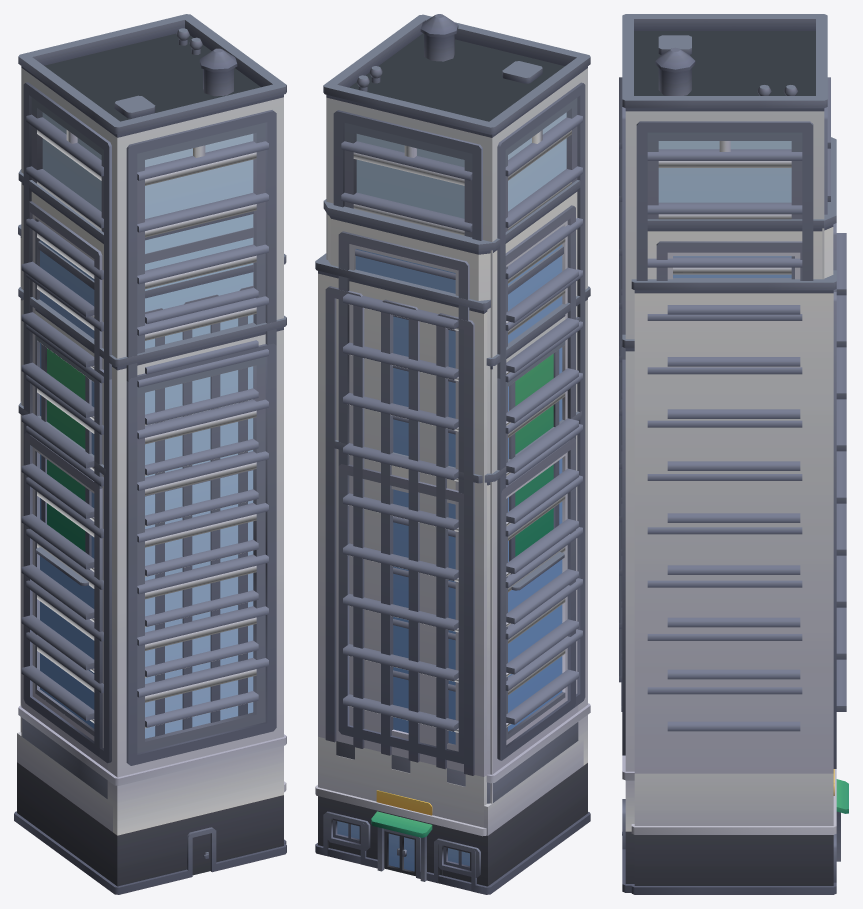
File: city.glb
The picture shows the model from 3 angles, left to right: view 1: azimuth 30°, elevation 25°; view 2: azimuth 150°, elevation 25°; view 3: azimuth 270°, elevation 25°; orthographic projection. The views are drawn at different scales.
Parts seen in each view (by area): view 1: building-skyscraper-d, building-skyscraper-c, building-skyscraper-b, building-skyscraper-e, building-skyscraper-a; view 2: building-skyscraper-e, building-skyscraper-b, building-skyscraper-d, building-skyscraper-a, building-skyscraper-c; view 3: building-skyscraper-e, building-skyscraper-d, building-skyscraper-b, building-skyscraper-c, building-skyscraper-a.
Part boxes in pixels (x1,y1,x2,y2): building-skyscraper-d: (18,14,286,893); building-skyscraper-c: (18,287,286,894); building-skyscraper-b: (14,169,258,882); building-skyscraper-e: (18,224,286,844); building-skyscraper-a: (14,401,258,890); building-skyscraper-e: (315,246,564,893); building-skyscraper-b: (323,180,583,887); building-skyscraper-d: (323,14,590,884); building-skyscraper-a: (327,411,586,894); building-skyscraper-c: (371,286,590,881); building-skyscraper-e: (631,270,836,894); building-skyscraper-d: (619,14,845,892); building-skyscraper-b: (621,137,846,731); building-skyscraper-c: (619,334,848,892); building-skyscraper-a: (621,497,846,725).
Bounding box in the file's own units: 1.36 × 5.47 × 1.39.
Materials: 1 (1 with a texture image).
